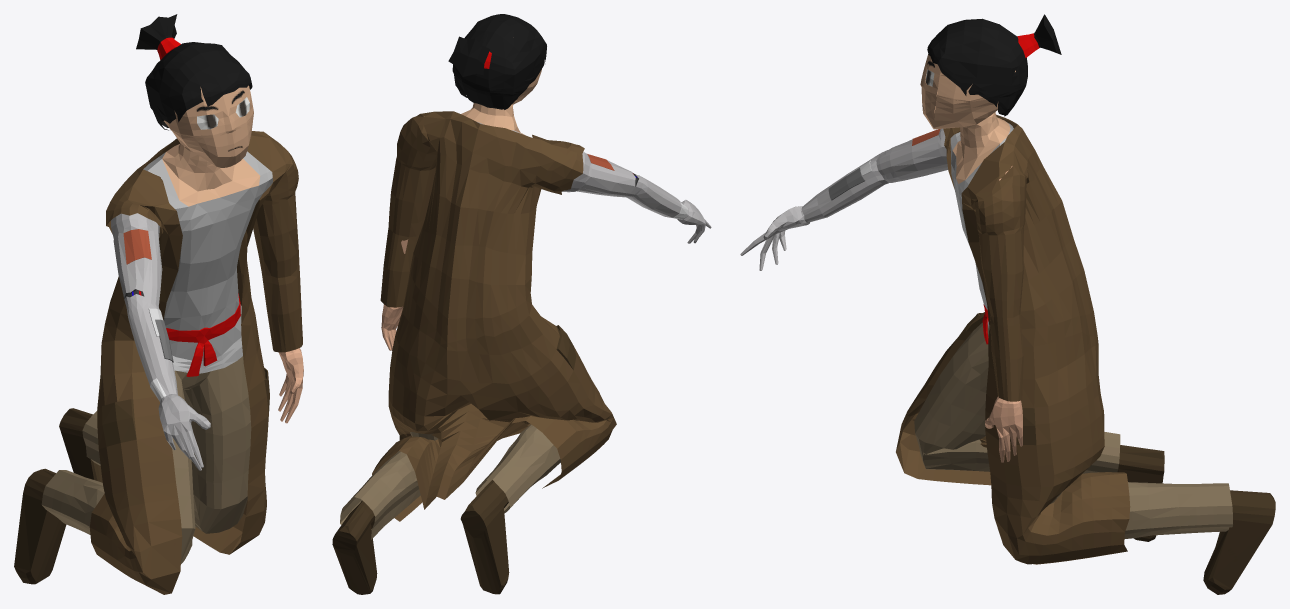
The model's file is One_Die_000019.obj.
3 renders of one model, left to right at view 1: azimuth 30°, elevation 25°; view 2: azimuth 150°, elevation 25°; view 3: azimuth 270°, elevation 25°, orthographic. The views are drawn at different scales.
Visible parts, largest first — view 1: Hair_Cube.004; view 2: Hair_Cube.004; view 3: Hair_Cube.004.
Boxes of the visible parts, box(x1,y1,x2,y2) form: Hair_Cube.004: box(14, 14, 303, 594); Hair_Cube.004: box(332, 14, 711, 594); Hair_Cube.004: box(740, 14, 1275, 594).
Size of the model in its own units: 1.39 by 3.03 by 2.62.
